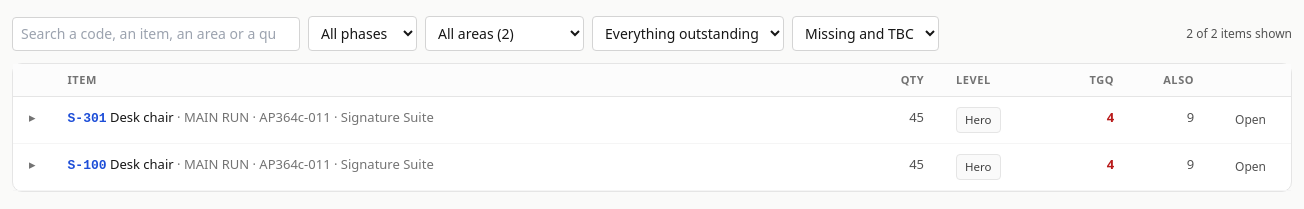
InfillTable › narrows by state using the line's own state counts, before anything is opened
The image size is (1304, 209).
Select "TBC only" in the dropdown named "Filter by answer state": (866, 34) x1=792 y1=16 x2=939 y2=51
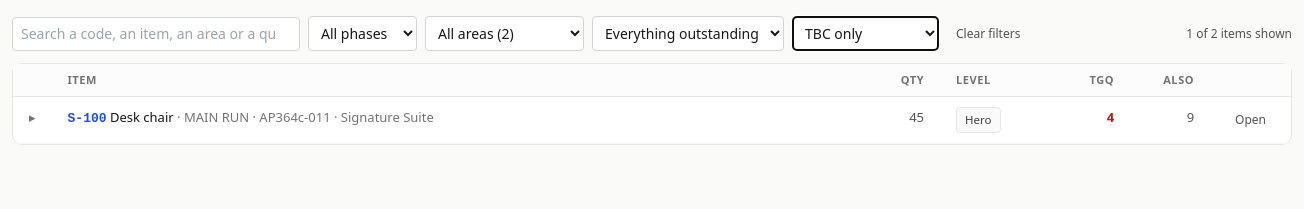
Expected: the link "S-100" is shown, x1=68 y1=111 x2=106 y2=126
Now the link "S-301" is gone
